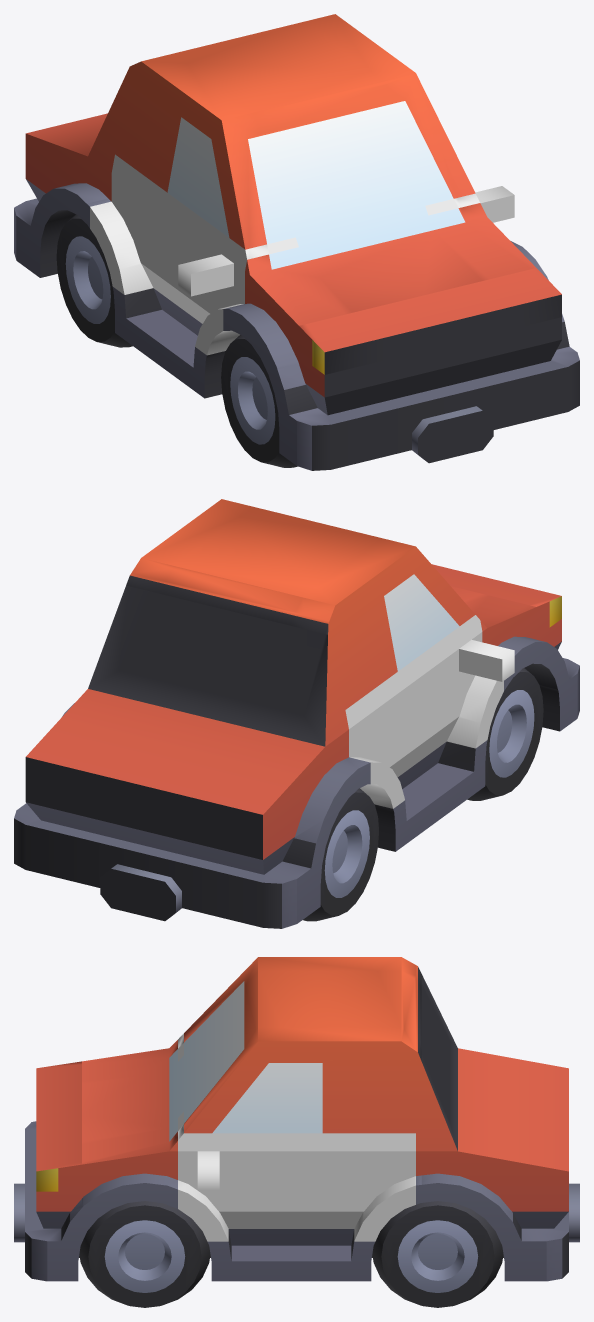
The model's file is car.glb.
3 renders of one model, top to bottom at view 1: azimuth 30°, elevation 25°; view 2: azimuth 150°, elevation 25°; view 3: azimuth 270°, elevation 25°, orthographic. The views are drawn at different scales.
Parts seen in each view (by area): view 1: body, trunk, door_l, hood, wheel_fr, wheel_rr, door_r; view 2: hood, body, door_l, wheel_rr, wheel_fr, trunk; view 3: body, hood, door_r, trunk, wheel_rl, wheel_fl.
Boxes of the visible parts, x1=… form: body: x1=86, y1=14, x2=548, y2=406; trunk: x1=277, y1=268, x2=579, y2=470; door_l: x1=90, y1=154, x2=298, y2=355; hood: x1=14, y1=75, x2=125, y2=277; wheel_fr: x1=221, y1=335, x2=297, y2=467; wheel_rr: x1=56, y1=214, x2=132, y2=347; door_r: x1=425, y1=186, x2=514, y2=222; hood: x1=14, y1=585, x2=367, y2=928; body: x1=126, y1=499, x2=557, y2=851; door_l: x1=345, y1=615, x2=514, y2=808; wheel_rr: x1=303, y1=788, x2=378, y2=921; wheel_fr: x1=467, y1=668, x2=543, y2=800; trunk: x1=431, y1=564, x2=579, y2=731; body: x1=82, y1=957, x2=421, y2=1281; hood: x1=421, y1=974, x2=579, y2=1281; door_r: x1=178, y1=1112, x2=415, y2=1241; trunk: x1=14, y1=1061, x2=81, y2=1281; wheel_rl: x1=372, y1=1201, x2=503, y2=1307; wheel_fl: x1=79, y1=1201, x2=210, y2=1307.
Size of the model in its own units: 4.5 by 3.9 by 7.65.
Materials: 5 (1 with a texture image).
